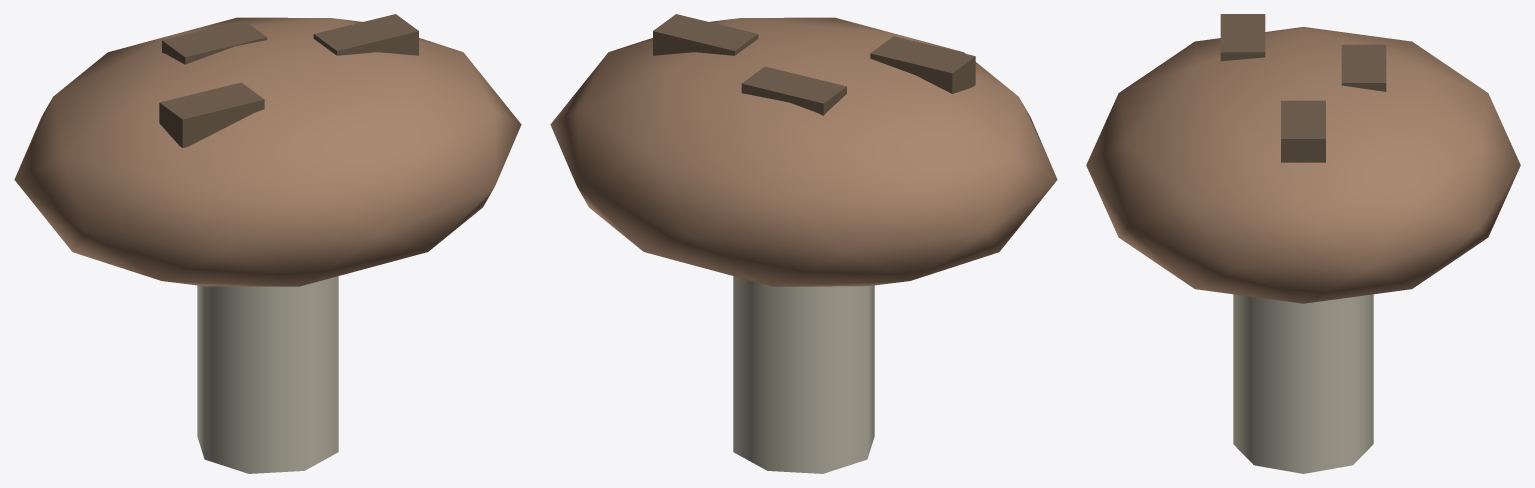
File: spread-portable-roastedmushroom.fbx
The picture shows the model from 3 angles, left to right: view 1: azimuth 30°, elevation 25°; view 2: azimuth 150°, elevation 25°; view 3: azimuth 270°, elevation 25°; orthographic projection. The views are drawn at different scales.
Parts seen in each view (by area): view 1: spread-portable-roastedmushroom__Geometry; view 2: spread-portable-roastedmushroom__Geometry; view 3: spread-portable-roastedmushroom__Geometry.
Boxes of the visible parts, left/top/right/bottom form: spread-portable-roastedmushroom__Geometry: left=14, top=14, right=521, bottom=473; spread-portable-roastedmushroom__Geometry: left=550, top=14, right=1057, bottom=473; spread-portable-roastedmushroom__Geometry: left=1086, top=14, right=1520, bottom=473.
Bounding box in the file's own units: 0.3994 × 0.342 × 0.36.
